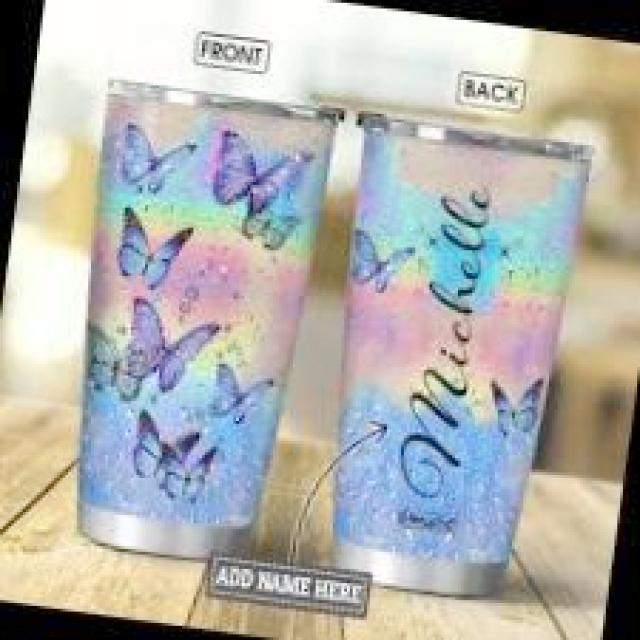bottle: (32, 70, 342, 573), (290, 106, 597, 602)
